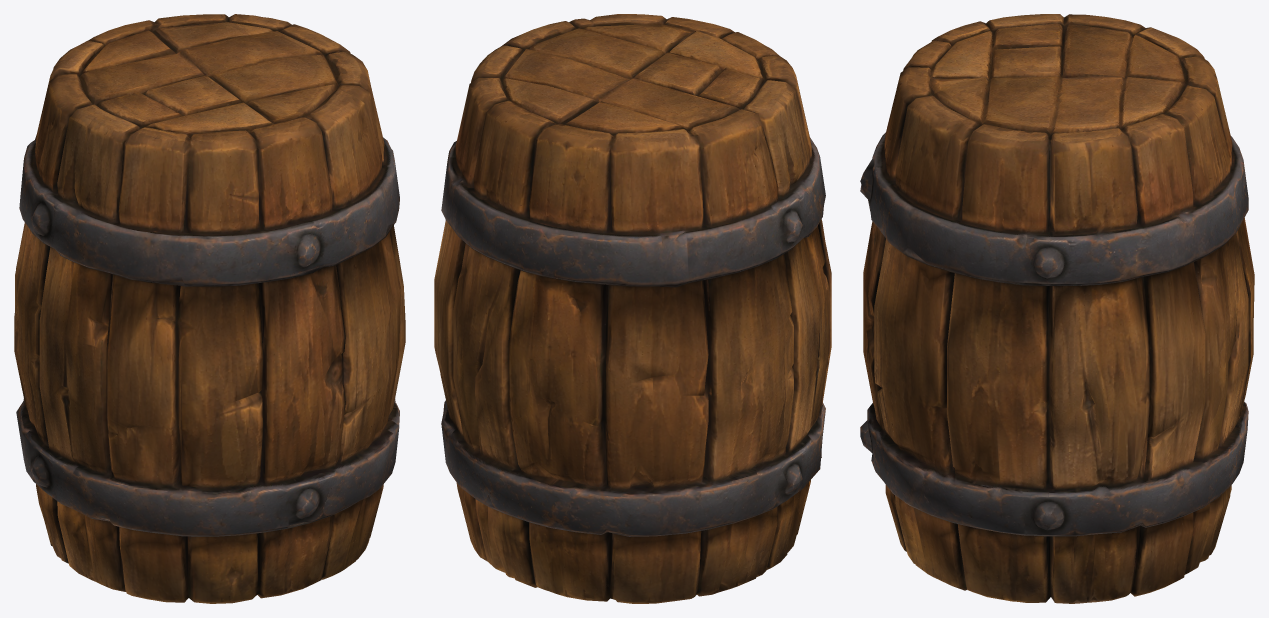
Rendered from SM_Env_Barrel.fbx.
The picture shows the model from 3 angles, left to right: view 1: azimuth 30°, elevation 25°; view 2: azimuth 150°, elevation 25°; view 3: azimuth 270°, elevation 25°; orthographic projection.
Visible parts, largest first — view 1: SM_Env_Barrel; view 2: SM_Env_Barrel; view 3: SM_Env_Barrel.
Boxes of the visible parts, x1,y1,x2,y2 form: SM_Env_Barrel: (14,14,405,603); SM_Env_Barrel: (434,14,831,603); SM_Env_Barrel: (860,14,1254,603).
Size of the model in its own units: 21.42 by 21.42 by 28.
Materials: 1 (1 with a texture image).
